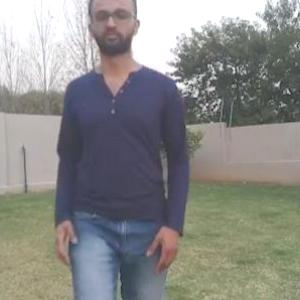follow: (68, 6, 160, 299)
